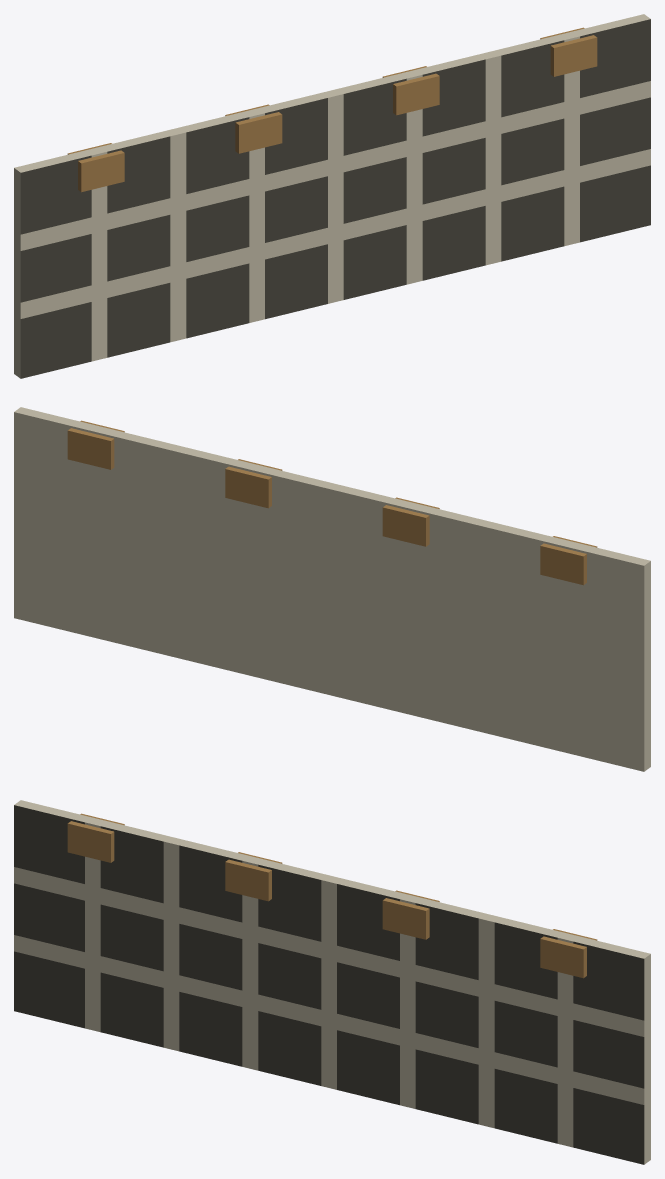
Rendered from fld_net.glb.
3 views of the same model, one above another, from view 1: azimuth 30°, elevation 25°; view 2: azimuth 150°, elevation 25°; view 3: azimuth 330°, elevation 25° (orthographic).
Visible parts, largest first — view 1: fld_net; view 2: fld_net; view 3: fld_net.
Part boxes in pixels (<box>): fld_net: <box>14,14,650,378</box>; fld_net: <box>14,407,650,771</box>; fld_net: <box>14,800,650,1164</box>.
Size of the model in its own units: 0.32 by 0.1 by 0.012.
